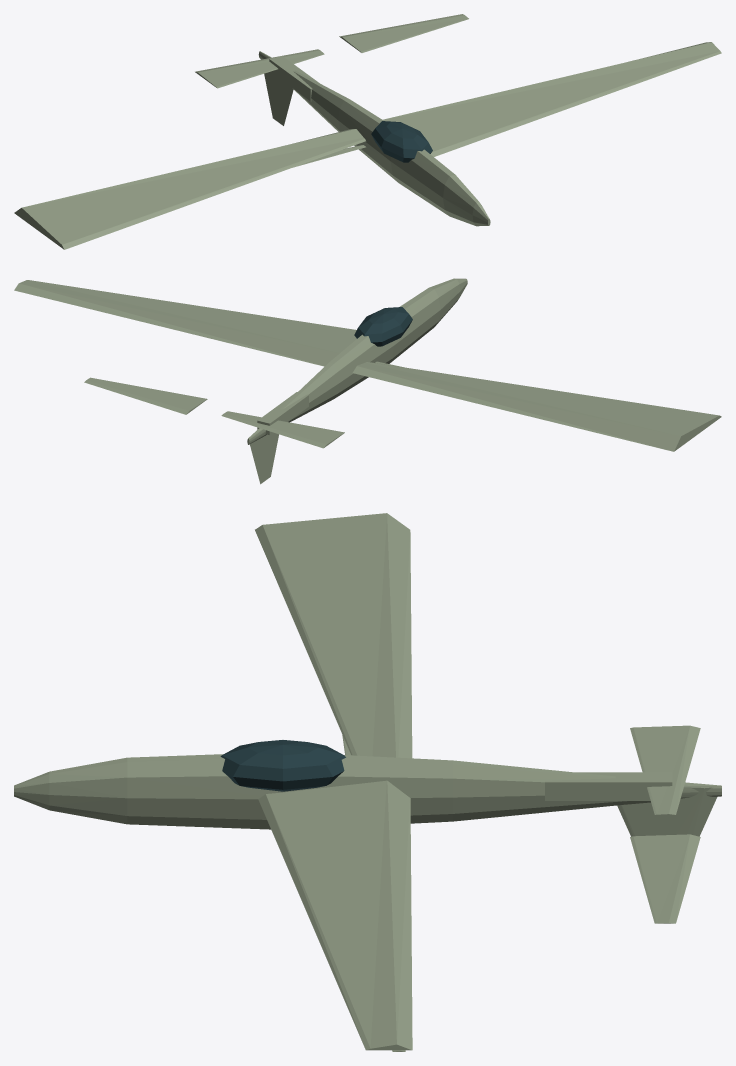
3 views of the same model, one above another, from view 1: azimuth 30°, elevation 25°; view 2: azimuth 150°, elevation 25°; view 3: azimuth 270°, elevation 25° (orthographic). The views are drawn at different scales.
Parts seen in each view (by area): view 1: Wing_L, Wing_R, Fuselage, Elevator_R, Cockpit, Elevator_L, Rudder, TailBoom; view 2: Wing_L, Wing_R, Fuselage, Elevator_R, Cockpit, Elevator_L, Rudder, TailBoom; view 3: Wing_R, Wing_L, Fuselage, Cockpit, Elevator_R, Elevator_L, TailBoom, Rudder.
Boxes of the visible parts, x1,y1,x2,y2 form: Wing_L: (14, 129, 365, 249); Wing_R: (383, 42, 721, 156); Fuselage: (258, 51, 490, 226); Elevator_R: (339, 14, 468, 52); Cockpit: (371, 121, 432, 162); Elevator_L: (195, 49, 324, 88); Rudder: (264, 72, 293, 125); TailBoom: (269, 56, 318, 101); Wing_L: (352, 362, 721, 451); Wing_R: (14, 280, 356, 366); Fuselage: (247, 278, 467, 444); Elevator_R: (84, 377, 207, 414); Cockpit: (354, 307, 412, 346); Elevator_L: (221, 411, 344, 448); Rudder: (250, 432, 278, 484); TailBoom: (257, 392, 308, 435); Wing_R: (258, 780, 412, 1050); Wing_L: (255, 513, 412, 758); Fuselage: (14, 754, 721, 829); Cockpit: (220, 740, 345, 791); Elevator_R: (630, 834, 700, 923); Elevator_L: (630, 725, 700, 814); TailBoom: (545, 772, 672, 800); Rudder: (617, 787, 717, 836).
Size of the model in its own units: 19.2 by 2.23 by 11.
